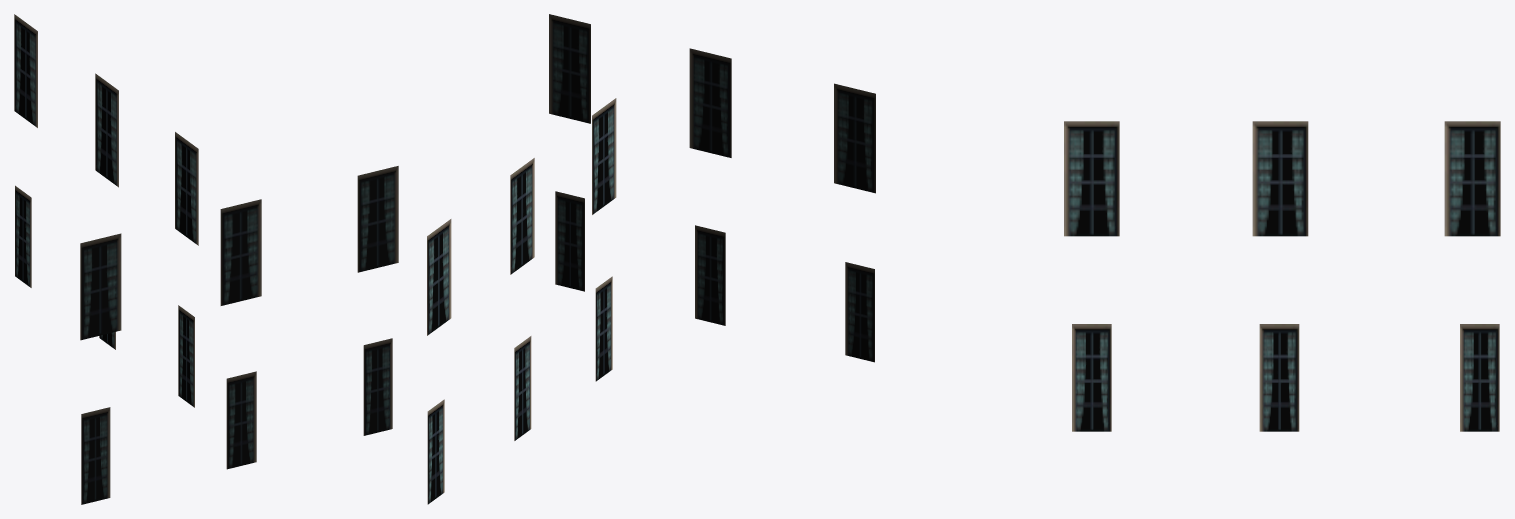
File: Archives_Alpha_30.glb
3 renders of one model, left to right at view 1: azimuth 30°, elevation 25°; view 2: azimuth 150°, elevation 25°; view 3: azimuth 270°, elevation 25°, orthographic. The views are drawn at different scales.
Visible parts, largest first — view 1: Archives_Alpha_30; view 2: Archives_Alpha_30; view 3: Archives_Alpha_30.
Boxes of the visible parts, x1,y1,x2,y2 form: Archives_Alpha_30: [14, 14, 398, 504]; Archives_Alpha_30: [427, 14, 875, 504]; Archives_Alpha_30: [1064, 121, 1500, 431].
Size of the model in its own units: 46.75 by 36.75 by 64.
Materials: 1 (1 with a texture image).
